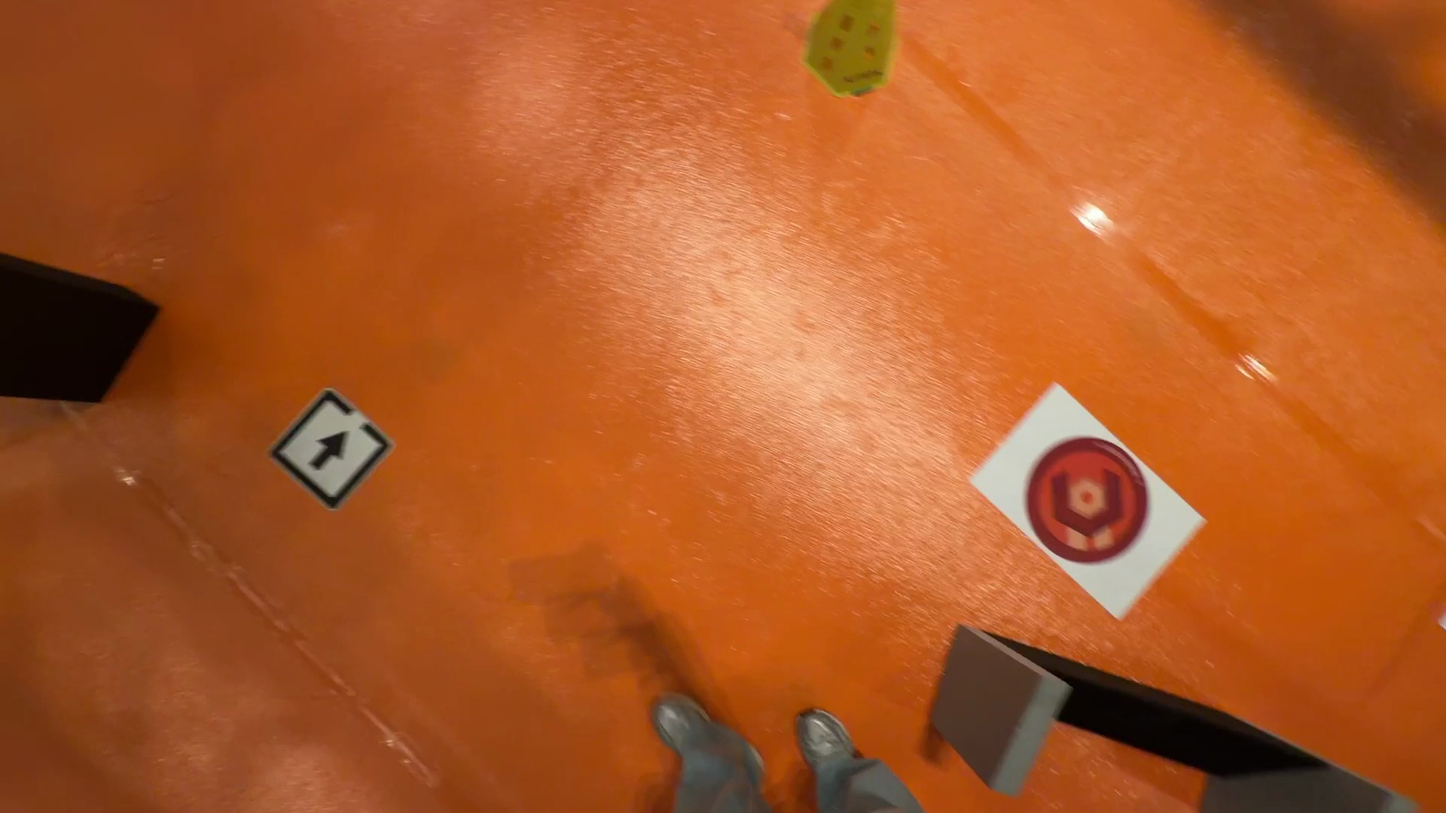landing_pad: (1025, 439, 1152, 565)
